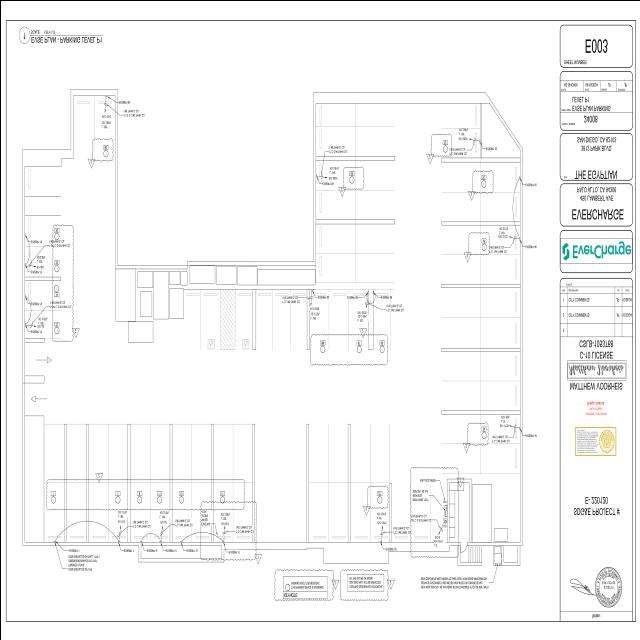evse: (100, 92, 112, 98), (516, 420, 522, 432), (477, 130, 481, 146), (50, 538, 60, 544), (176, 538, 186, 544), (218, 538, 228, 544), (375, 538, 385, 544), (22, 288, 27, 300), (22, 257, 27, 269), (516, 230, 520, 244), (517, 170, 521, 184), (136, 538, 146, 543), (114, 538, 122, 544), (156, 538, 164, 544), (22, 317, 26, 329), (22, 226, 26, 238), (314, 168, 318, 180), (309, 286, 317, 292), (366, 287, 369, 296), (372, 288, 374, 298)
gfi: (443, 519, 447, 523)
panel: (443, 502, 447, 516)
